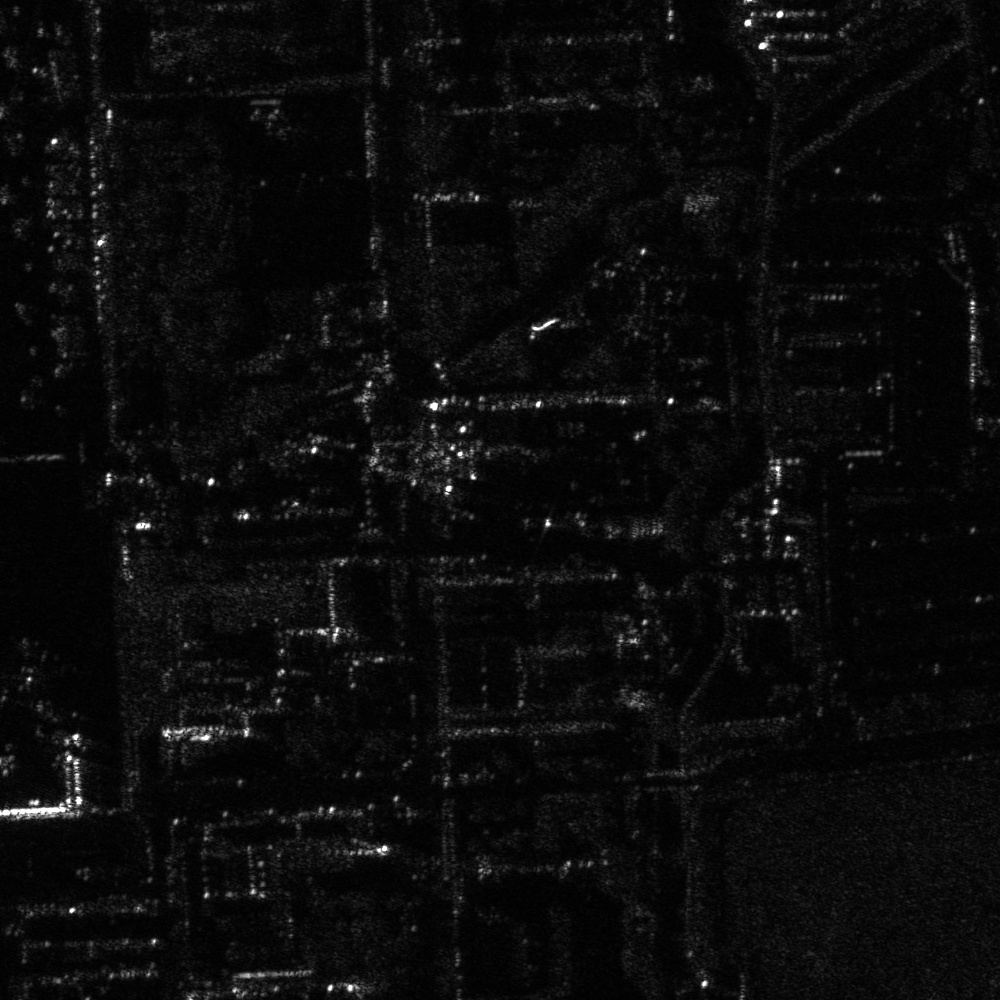A220: (1, 632, 82, 723)
